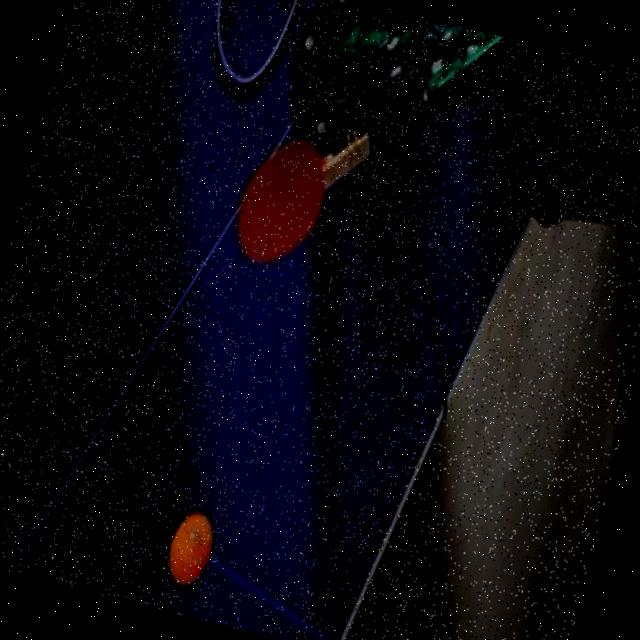ping-pong-ball: (166, 506, 218, 584)
